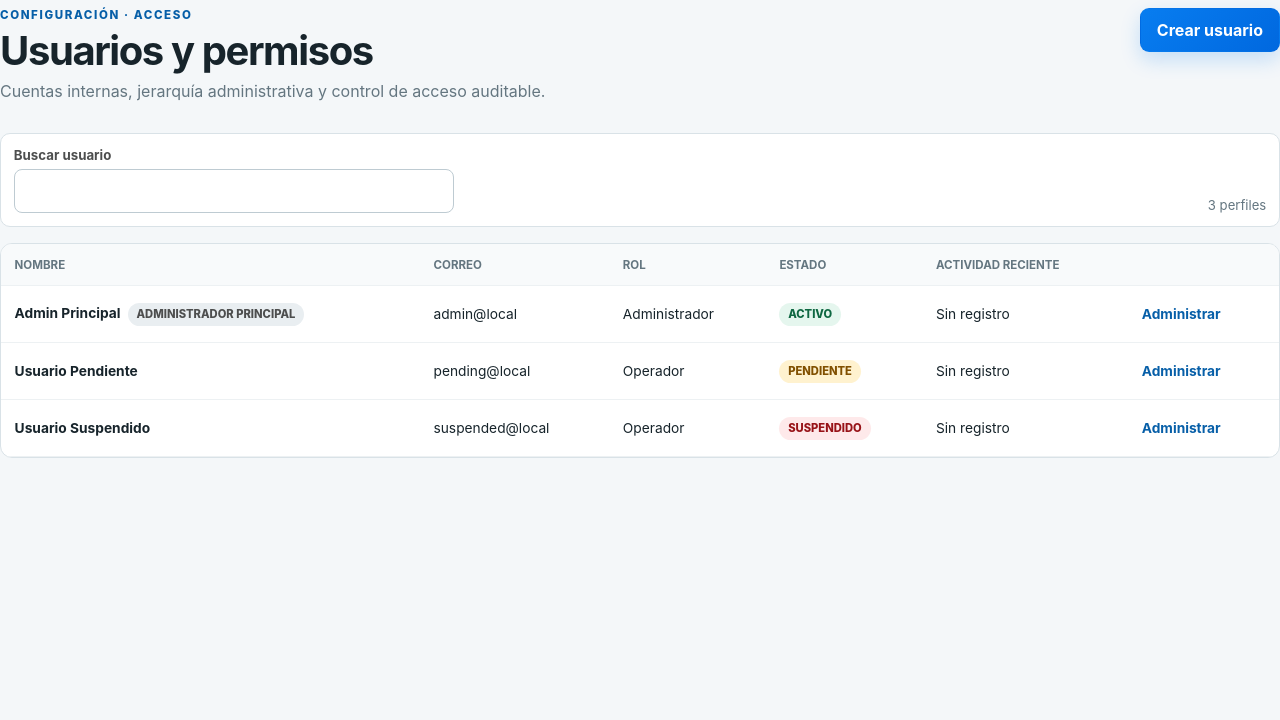
Test case: UsersPage › marks and protects the primary administrator in the list and editor
The width and height of the screenshot is (1280, 720).
Expected: the text "ADMINISTRADOR PRINCIPAL" is shown, [128,303,304,326]
Click the button "Administrar" in the row of "Admin Principal" at (1181, 314), box [1135,300,1227,329]
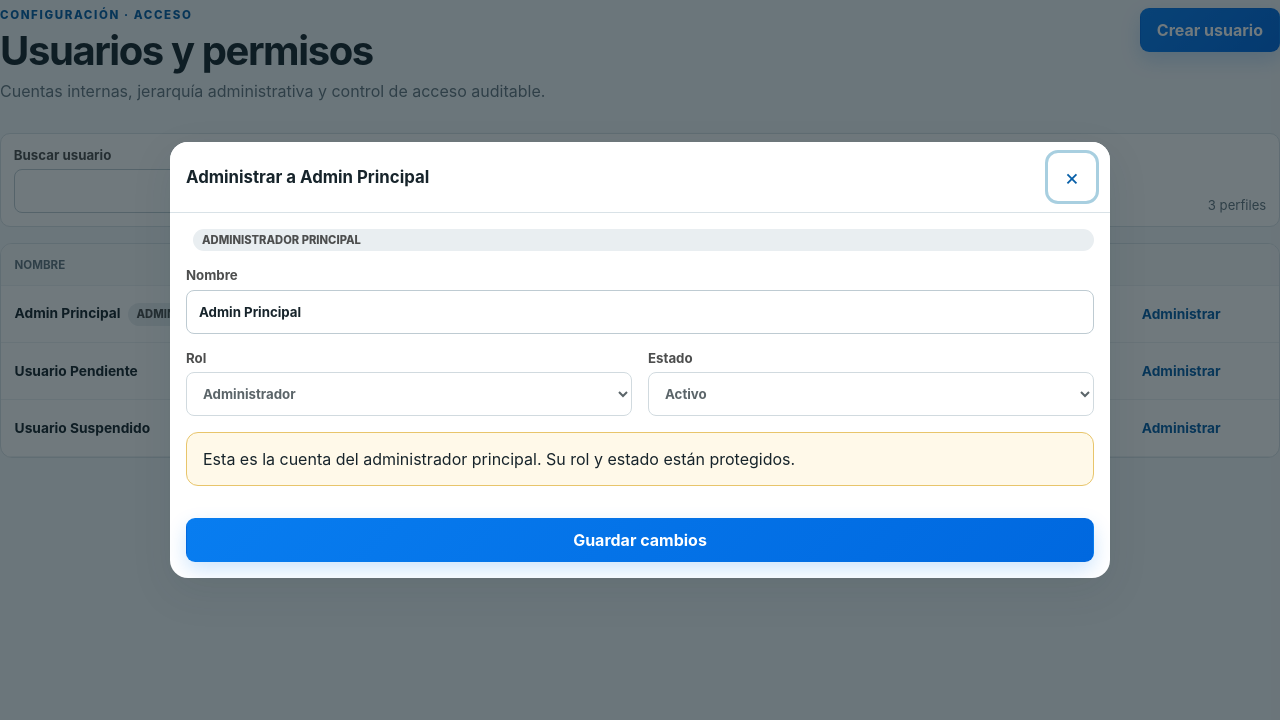
Expected: the text "rol y estado están protegidos" is shown, [203,449,795,469]
Expected: the text "ADMINISTRADOR PRINCIPAL" is shown, [193,229,1094,251]
Expected: the dropdown labelled "Rol" is disabled, [186,372,632,416]
